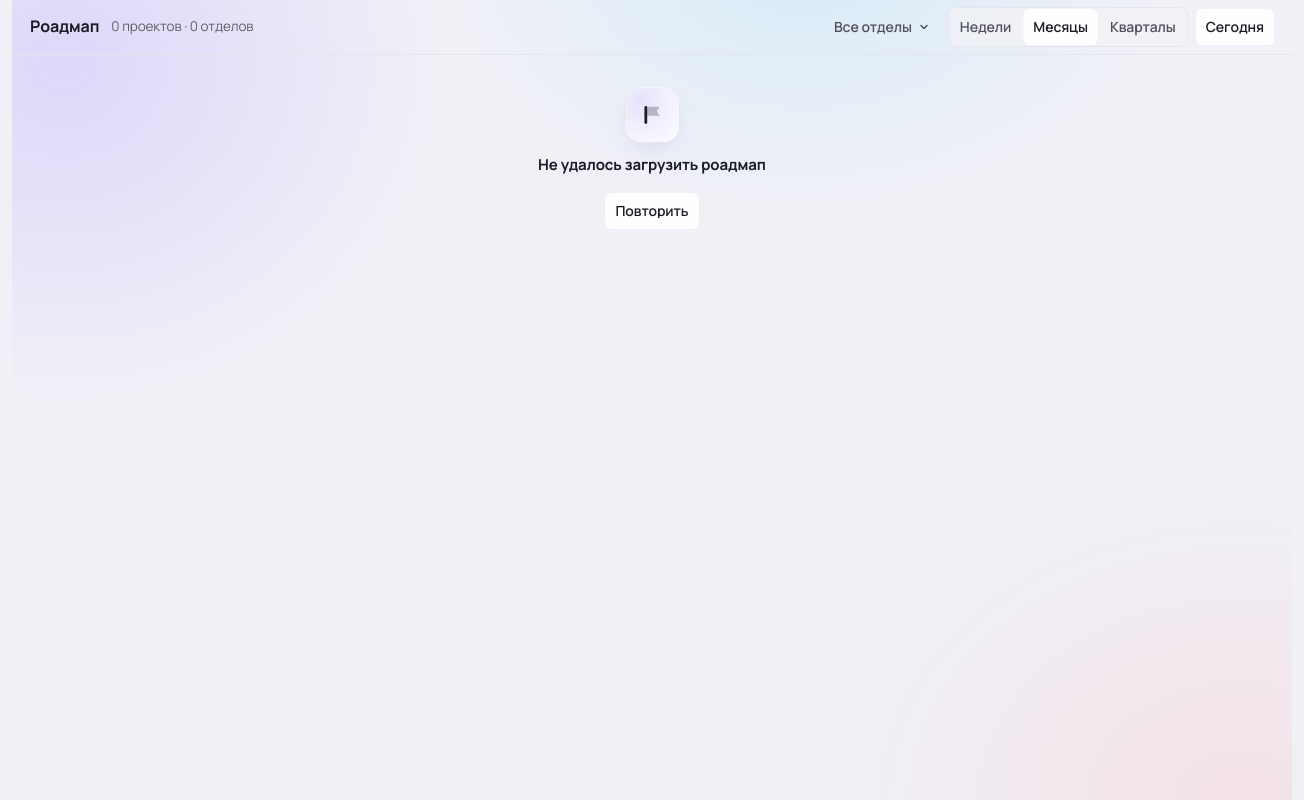
Scenario: ошибка загрузки — «Повторить»
Expected: the text "Не удалось загрузить роадмап" is shown, [538,155,766,174]
Click the button "Повторить".
click(652, 210)  # box [605,192,698,228]
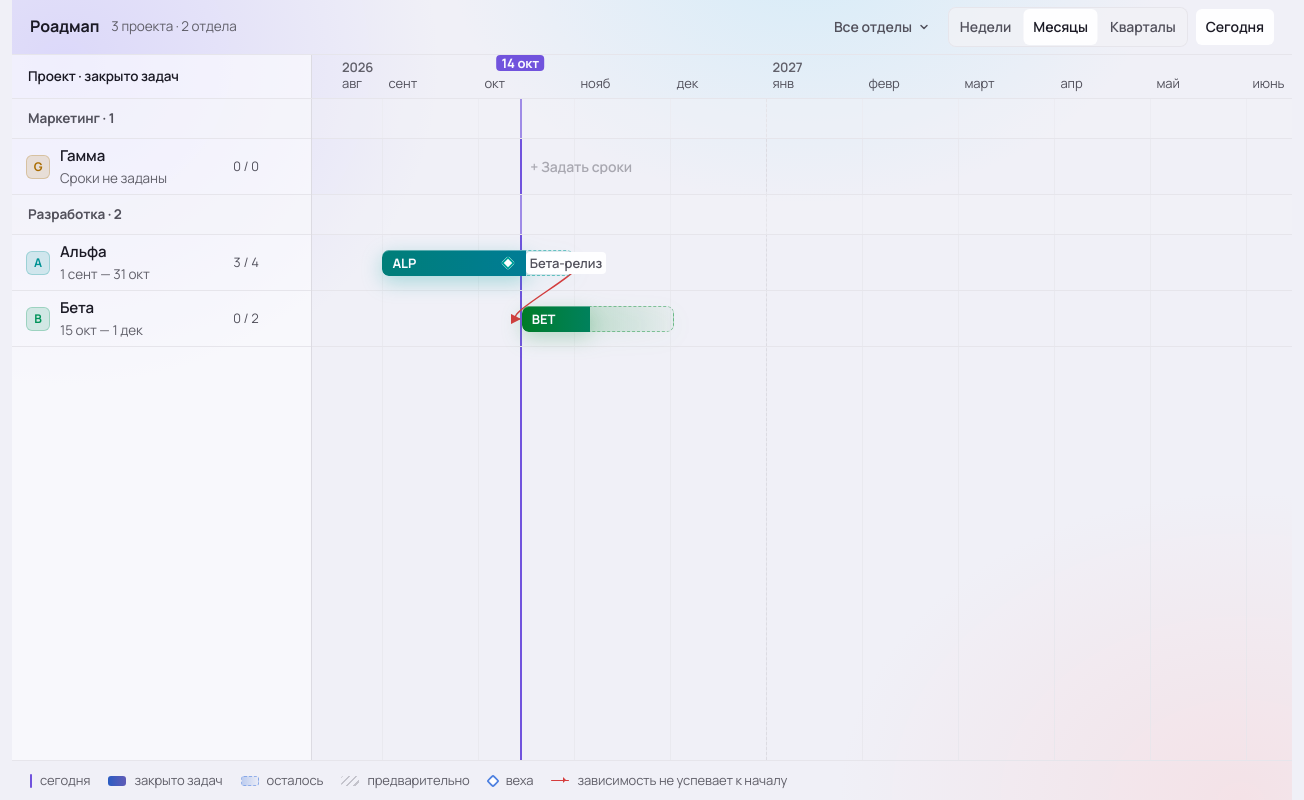
Expected: the text "Разработка · 2" is shown, [12,195,311,235]
